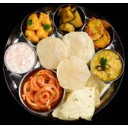poori: (63, 31, 94, 64), (37, 37, 68, 70), (58, 58, 90, 89)
